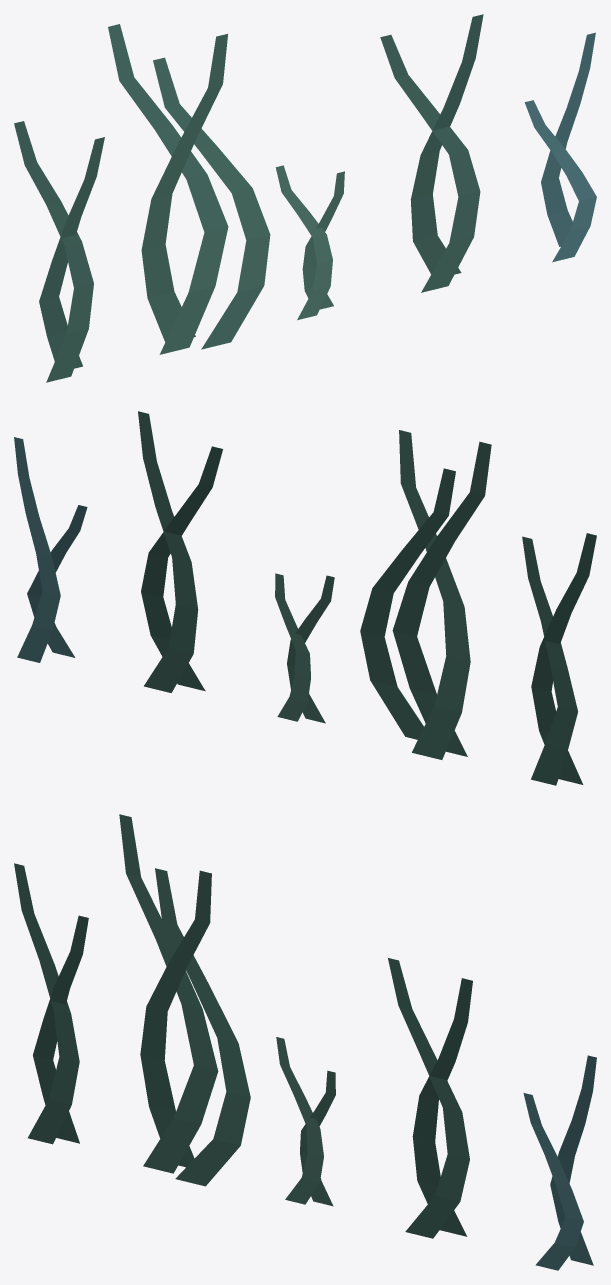
The model's file is seaweed.glb.
The picture shows the model from 3 angles, top to bottom: view 1: azimuth 30°, elevation 25°; view 2: azimuth 150°, elevation 25°; view 3: azimuth 330°, elevation 25°; orthographic projection.
Parts seen in each view (by area): view 1: world; view 2: world; view 3: world.
Boxes of the visible parts, x1,y1,x2,y2 form: world: [14, 14, 596, 382]; world: [14, 411, 596, 785]; world: [14, 814, 596, 1270].
Size of the model in its own units: 2.3 by 1.25 by 0.1321.
